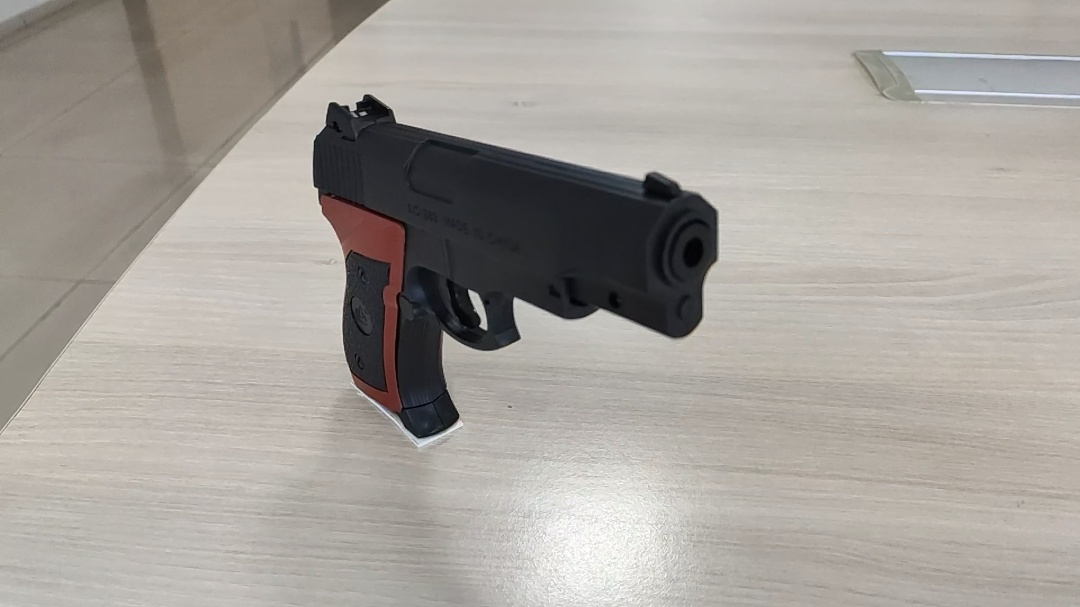gun: (587, 270, 627, 297)
